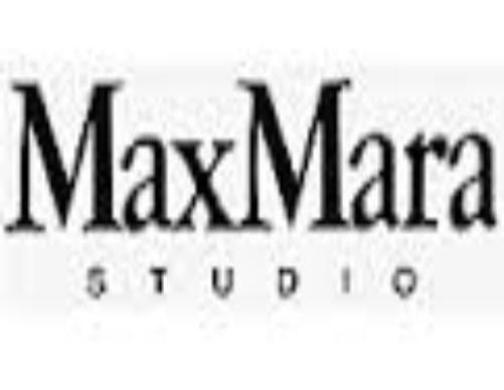MAX-MARA: (4, 73, 494, 230)
